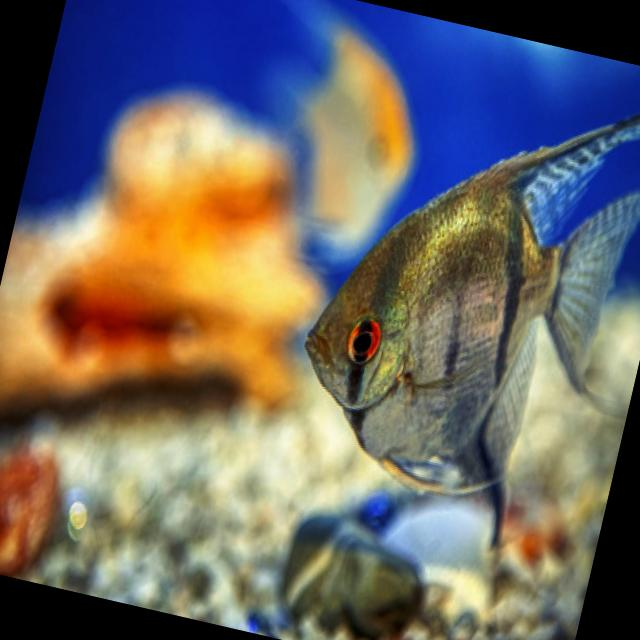AngelFish: (288, 49, 640, 513)
